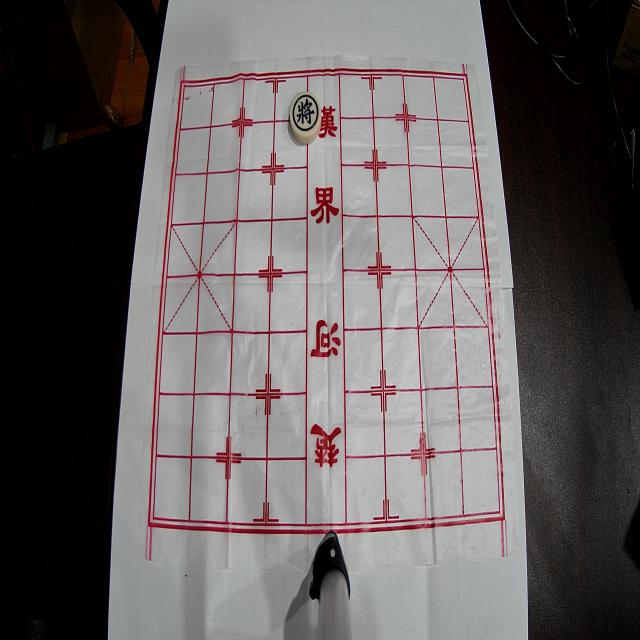black-general: (290, 92, 322, 144)
